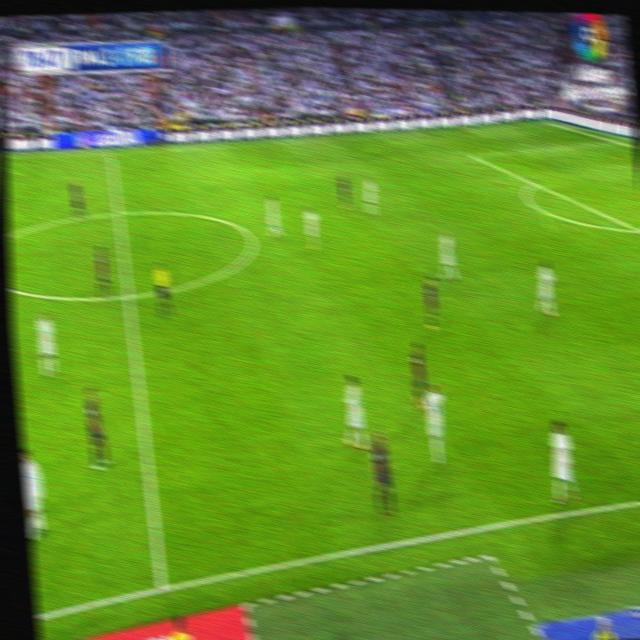corner: (541, 117, 554, 128)
halfcircle_bottom: (121, 282, 136, 308)
halfcircle_top: (114, 207, 123, 219)
midline_top_intersection: (106, 147, 116, 158)
top_arc_area_intersection: (528, 176, 540, 190)
